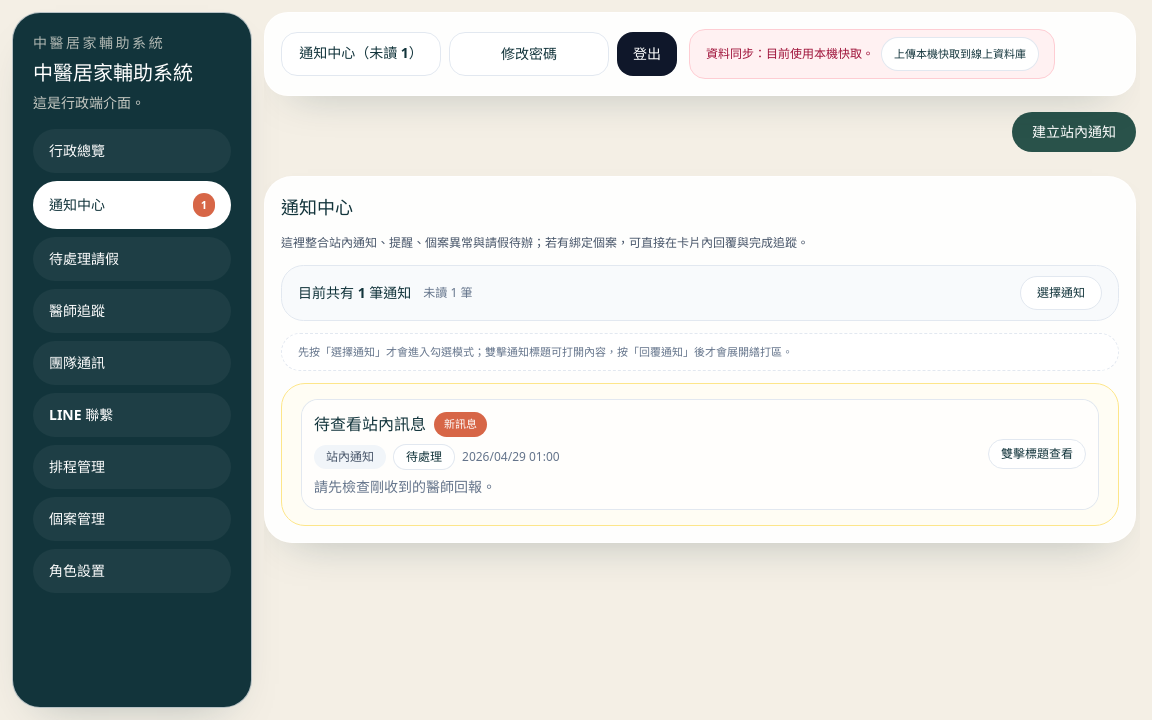
Test: AppShell › Shell 內雙擊通知標題後會自動清除未讀提示
This screenshot has width=1152, height=720.
Expected: the link "通知中心（未讀 1）" is shown, x1=281 y1=32 x2=441 y2=76
Step 1. Double-click the button "待查看站內訊息 新訊息 站內通知 待處理 2026/04/29 01:00 請先檢查剛收到的醫師回報。 雙擊標題查看" → (370, 424), box x1=302 y1=400 x2=1098 y2=508
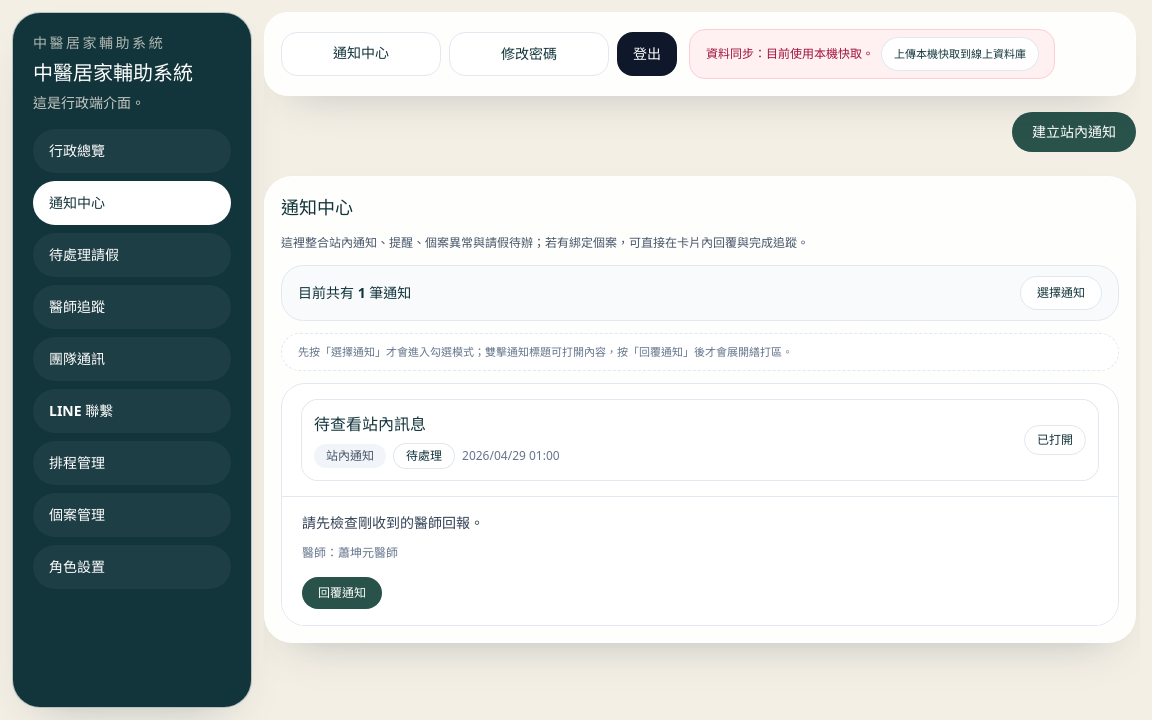
Now the link "通知中心（未讀 1）" is gone
